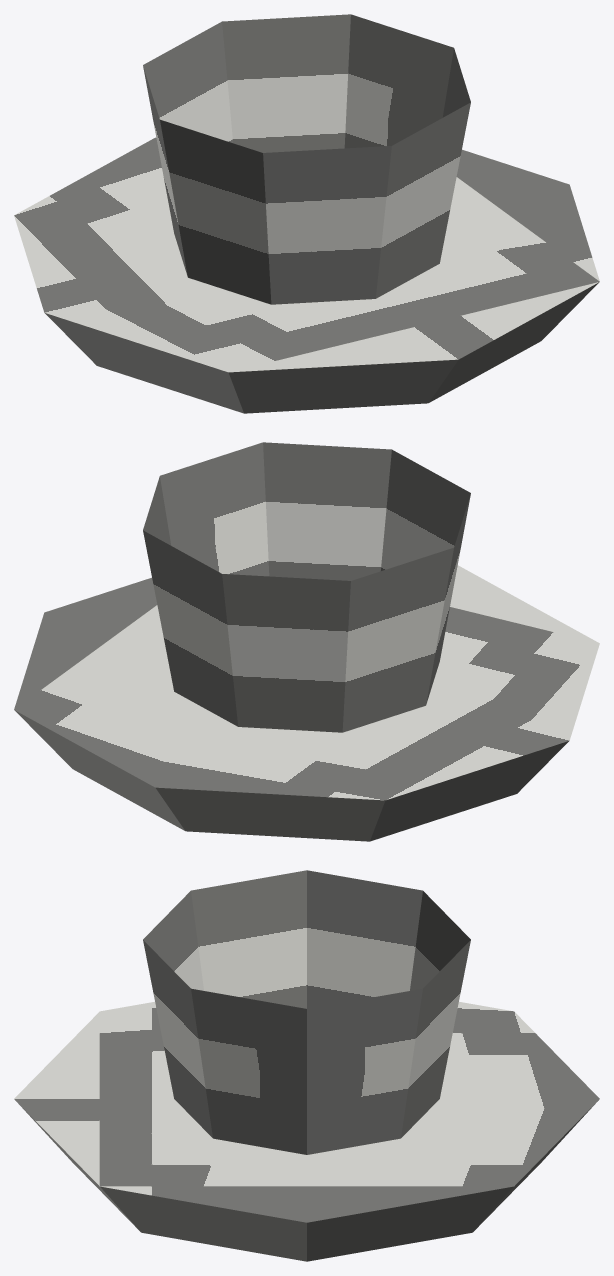
File: CupSaucer.obj
3 renders of one model, top to bottom at view 1: azimuth 30°, elevation 25°; view 2: azimuth 150°, elevation 25°; view 3: azimuth 270°, elevation 25°, orthographic. The views are drawn at different scales.
Parts seen in each view (by area): view 1: CupSaucer; view 2: CupSaucer; view 3: CupSaucer.
Part boxes in pixels (x1,y1,x2,y2): CupSaucer: (14,14,599,413); CupSaucer: (14,442,599,841); CupSaucer: (14,870,599,1261).
Bounding box in the file's own units: 0.15 × 0.063 × 0.15.
Materials: 1 (1 with a texture image).
